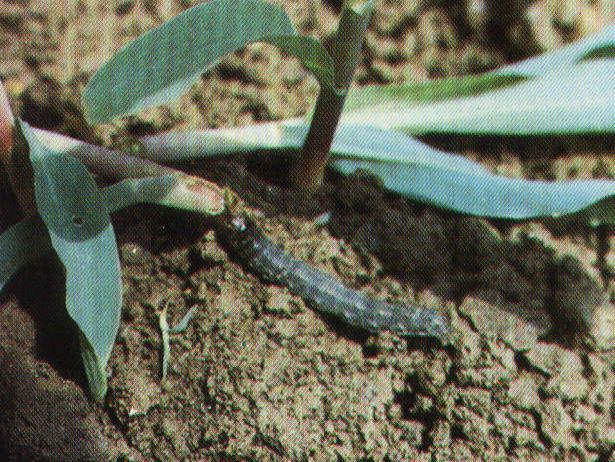caterpillars: (202, 182, 482, 383)
